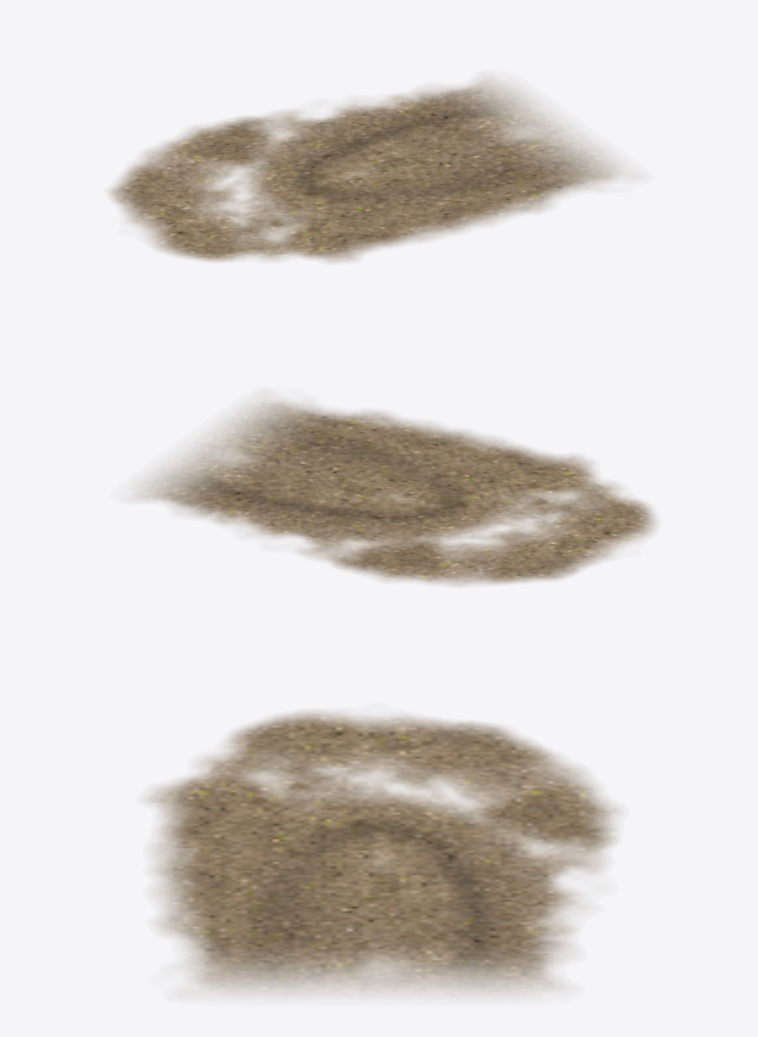
File: road_end_drive.glb
3 renders of one model, top to bottom at view 1: azimuth 30°, elevation 25°; view 2: azimuth 150°, elevation 25°; view 3: azimuth 270°, elevation 25°, orthographic. The views are drawn at different scales.
Visible parts, largest first — view 1: road_end_drive; view 2: road_end_drive; view 3: road_end_drive.
Boxes of the visible parts, <box> form: road_end_drive: <box>109,77,627,262</box>; road_end_drive: <box>133,398,657,585</box>; road_end_drive: <box>145,710,620,995</box>.
Size of the model in its own units: 6.5 by 0 by 5.5.
Materials: 1 (1 with a texture image).
